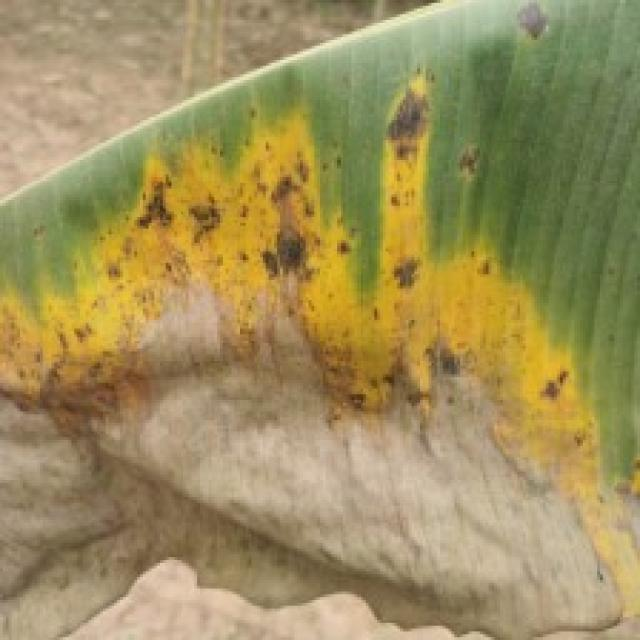Downey_mildrew: (0, 167, 640, 630), (119, 60, 541, 179), (505, 0, 571, 51)
